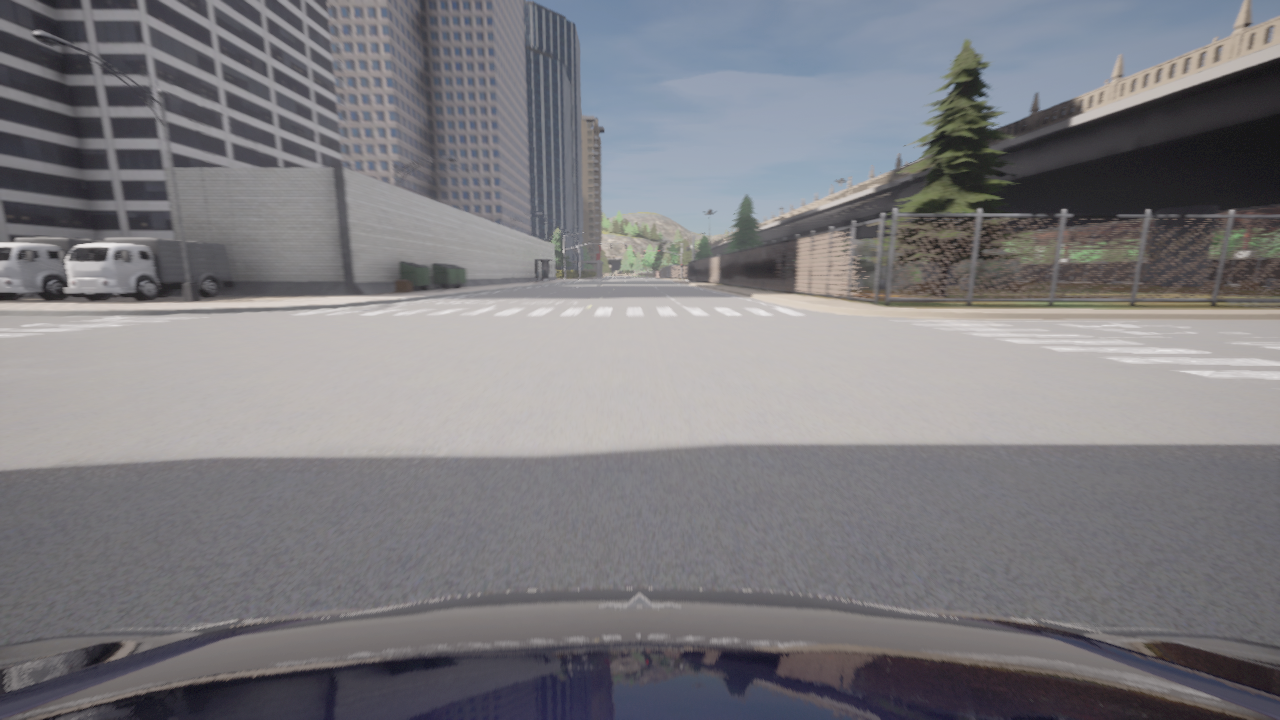cyclist: (0, 588, 1279, 719), (59, 238, 234, 300), (0, 237, 132, 300)
